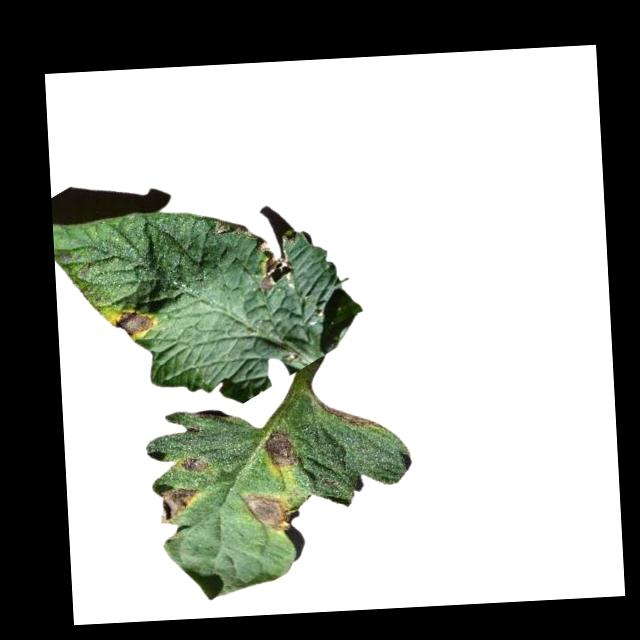Early_blight: (243, 490, 297, 534), (319, 396, 383, 429), (255, 233, 291, 291), (152, 482, 201, 523), (115, 304, 157, 341), (262, 427, 299, 468), (179, 454, 211, 475)
